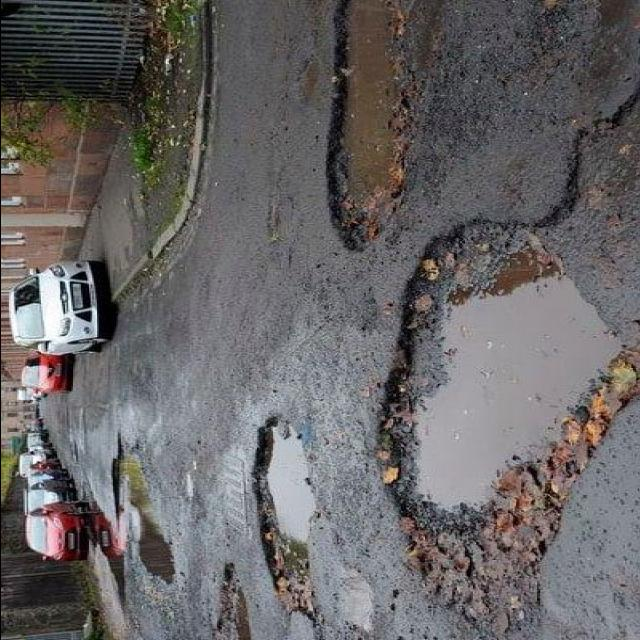lubang: (369, 196, 640, 609), (491, 40, 640, 348), (242, 415, 338, 638), (318, 2, 404, 250), (90, 422, 184, 598), (188, 556, 255, 640), (248, 169, 296, 251), (282, 46, 326, 111)
